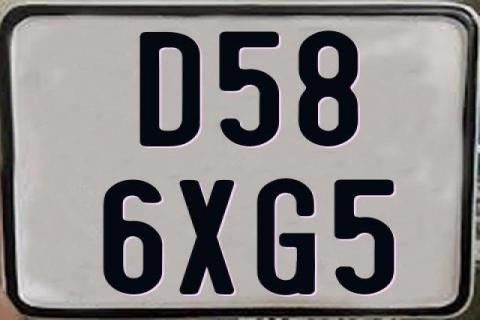0: (296, 31, 362, 147), (332, 178, 398, 294), (219, 31, 282, 151), (103, 177, 164, 297)
D: (140, 29, 204, 149)
G: (254, 178, 312, 296)
X: (176, 179, 234, 293)
